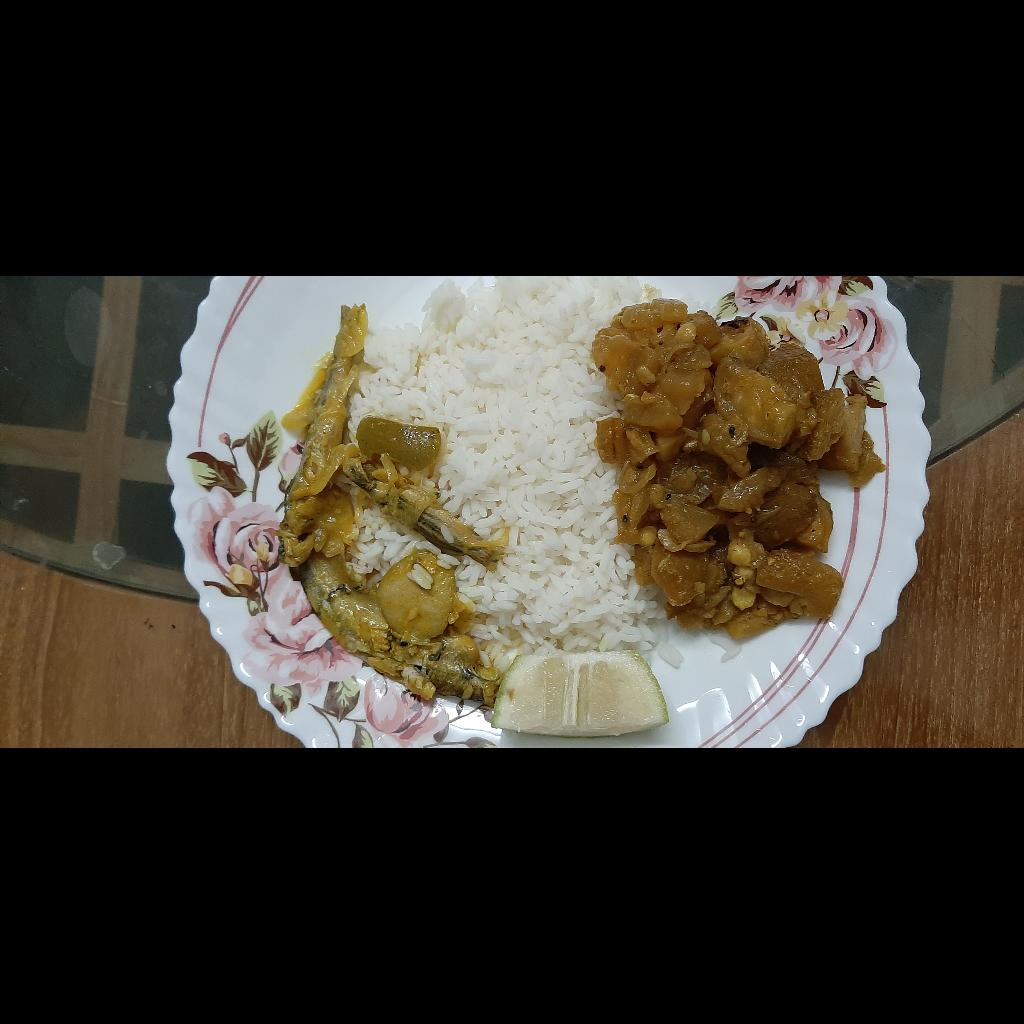dundol: (285, 633, 330, 723)
fish: (36, 554, 440, 774), (176, 630, 285, 782)
lemon: (9, 772, 100, 946)
rice: (80, 618, 472, 1011)
vegetable: (108, 865, 450, 1024)
